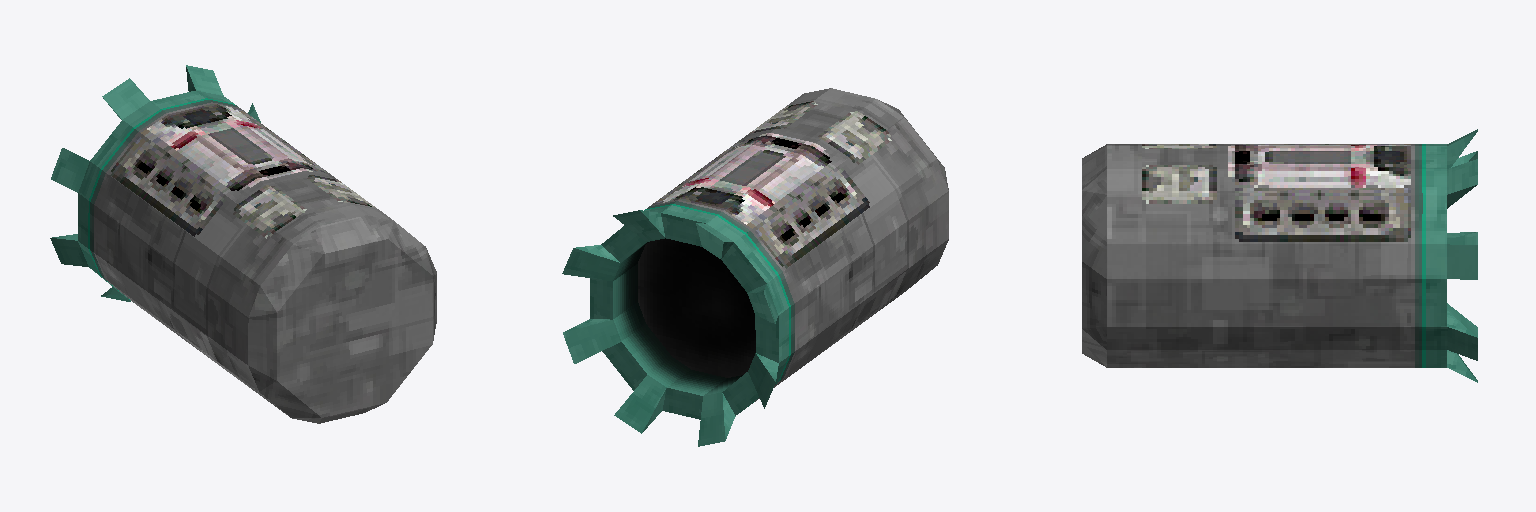
3 views of the same model, side by side, from view 1: azimuth 30°, elevation 25°; view 2: azimuth 150°, elevation 25°; view 3: azimuth 270°, elevation 25° (orthographic).
Parts seen in each view (by area): view 1: w_rocket; view 2: w_rocket; view 3: w_rocket.
Boxes of the visible parts, box(x1,y1,x2,y2) form: w_rocket: box(50, 65, 436, 423); w_rocket: box(562, 88, 948, 446); w_rocket: box(1082, 129, 1477, 382).
Bounding box in the file's own units: 1.92 × 1.92 × 3.08.
1 materials, 1 textured.